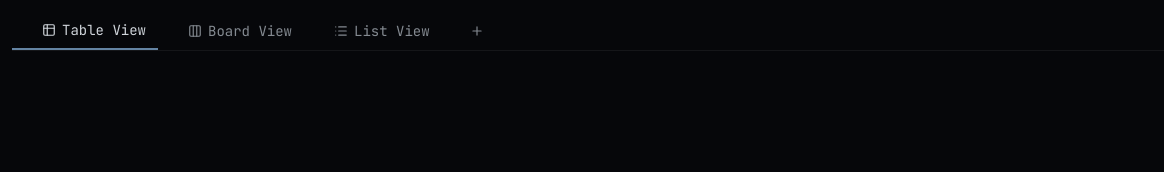
Test: ViewTabs — context menu › context menu Rename enters inline rename mode
Right-click the tab "Board View".
right_click(231, 31)  # box [158,13,304,49]
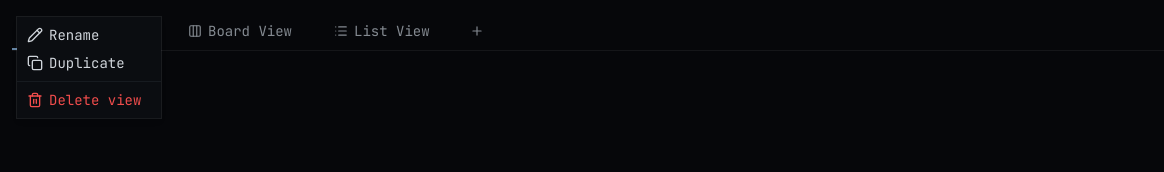
Click the menu item "Rename".
click(63, 35)  # box [27,26,99,44]
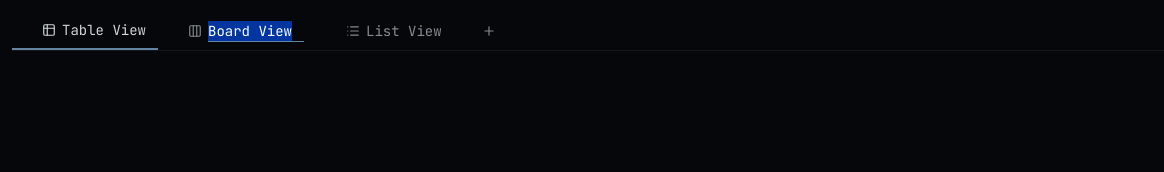
expect the field named "Rename view" holds "Board View": met, box [208,20,304,42]
